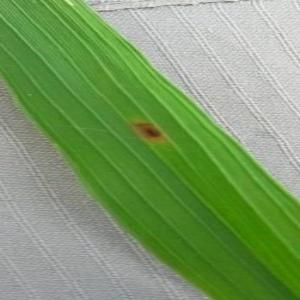Brown_Spot: (126, 116, 170, 145)
